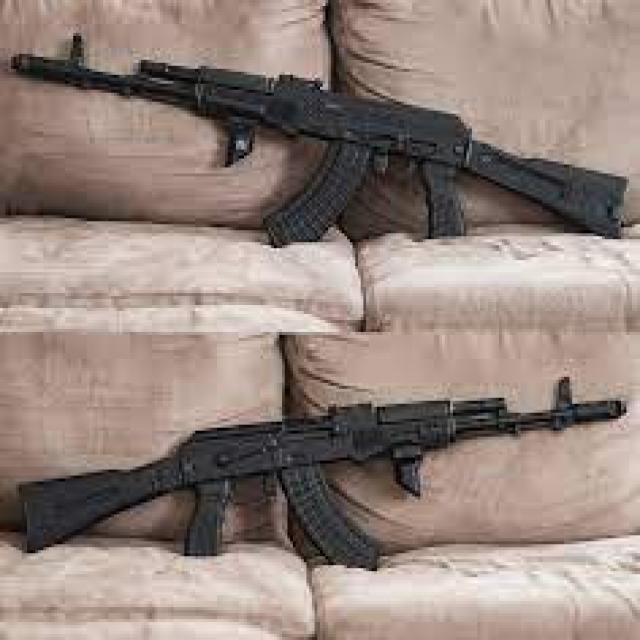weapon: (13, 30, 632, 251), (15, 376, 629, 571)
